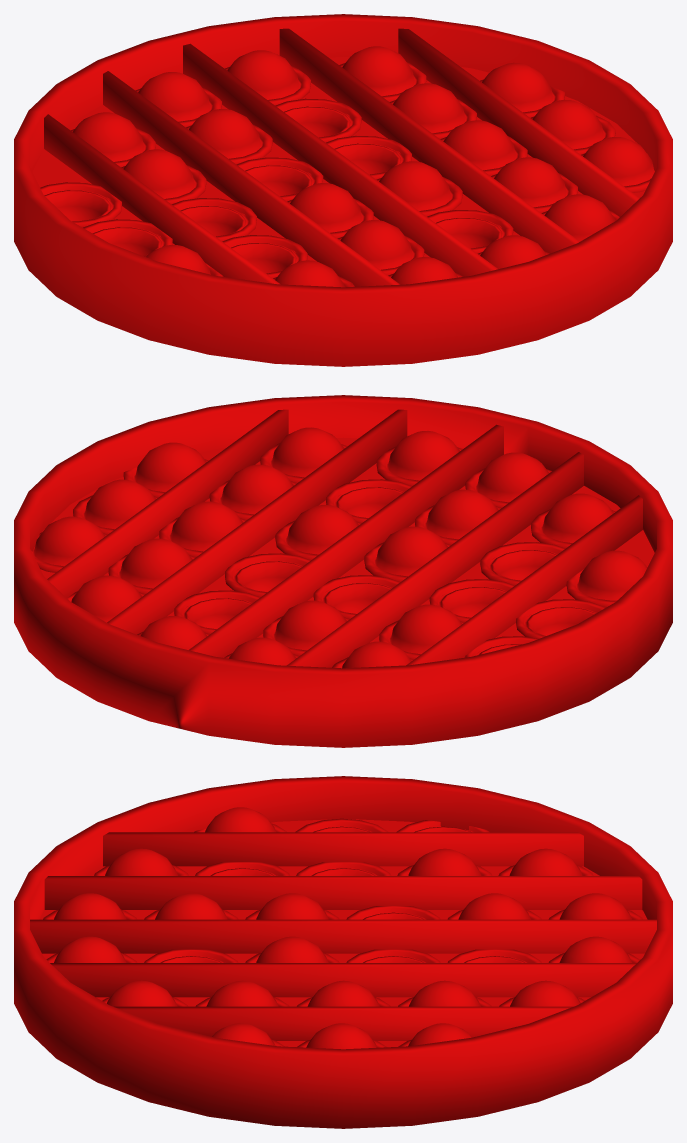
3 renders of one model, top to bottom at view 1: azimuth 30°, elevation 25°; view 2: azimuth 150°, elevation 25°; view 3: azimuth 270°, elevation 25°, orthographic.
Visible parts, largest first — view 1: Труба, Труба.001; view 2: Труба, Труба.001; view 3: Труба, Труба.001.
Part boxes in pixels (left/top/right/bottom): Труба: left=14, top=14, right=672, bottom=366; Труба.001: left=32, top=56, right=645, bottom=261; Труба: left=14, top=395, right=672, bottom=747; Труба.001: left=40, top=437, right=654, bottom=653; Труба: left=14, top=776, right=672, bottom=1128; Труба.001: left=39, top=819, right=647, bottom=1047.
Bounding box in the file's own units: 289 × 35 × 287.
